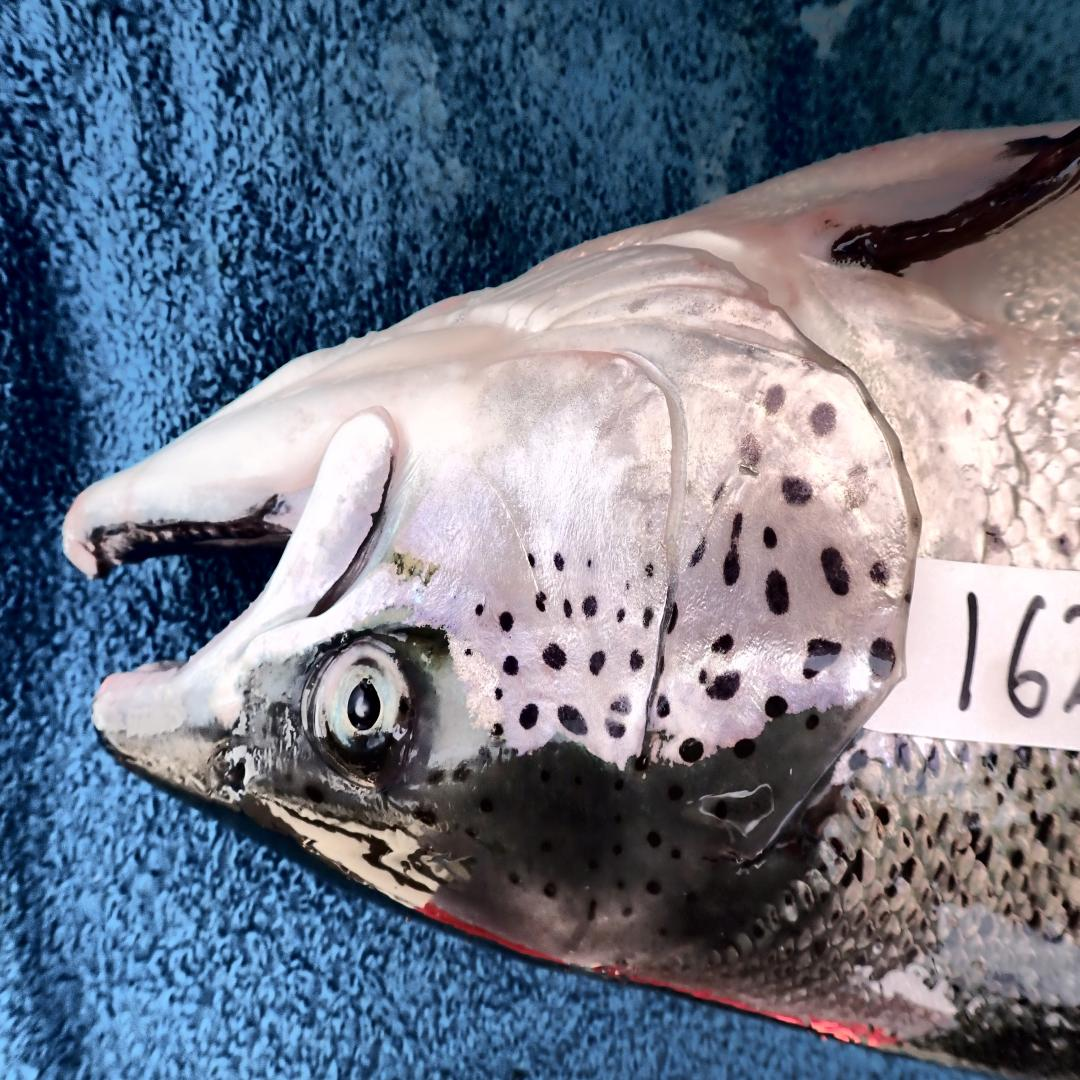spot: (804, 638, 842, 678), (821, 548, 850, 596), (723, 513, 742, 585), (844, 464, 873, 509), (698, 669, 740, 700), (869, 638, 896, 681), (766, 571, 789, 616), (738, 433, 761, 475), (707, 672, 740, 700), (783, 475, 812, 506), (557, 706, 589, 734), (810, 402, 835, 436), (679, 737, 705, 762), (688, 537, 707, 568), (764, 385, 785, 413), (542, 644, 565, 669), (639, 515, 664, 537), (605, 717, 626, 740), (519, 703, 538, 728), (766, 695, 787, 717), (733, 739, 755, 759), (711, 633, 734, 652), (869, 562, 888, 585), (589, 650, 605, 675), (610, 695, 631, 714), (502, 655, 519, 675), (667, 605, 679, 633), (656, 695, 671, 717), (764, 526, 778, 548), (582, 596, 597, 616), (500, 610, 513, 633), (713, 481, 726, 503), (631, 650, 643, 672), (536, 591, 546, 613), (643, 608, 654, 627), (656, 652, 664, 678), (555, 551, 565, 571), (491, 723, 504, 737), (563, 599, 572, 619), (616, 608, 626, 622), (645, 562, 654, 577), (527, 554, 536, 568), (475, 605, 483, 616), (496, 686, 502, 700), (586, 557, 593, 568), (464, 647, 472, 655), (625, 581, 630, 590)
